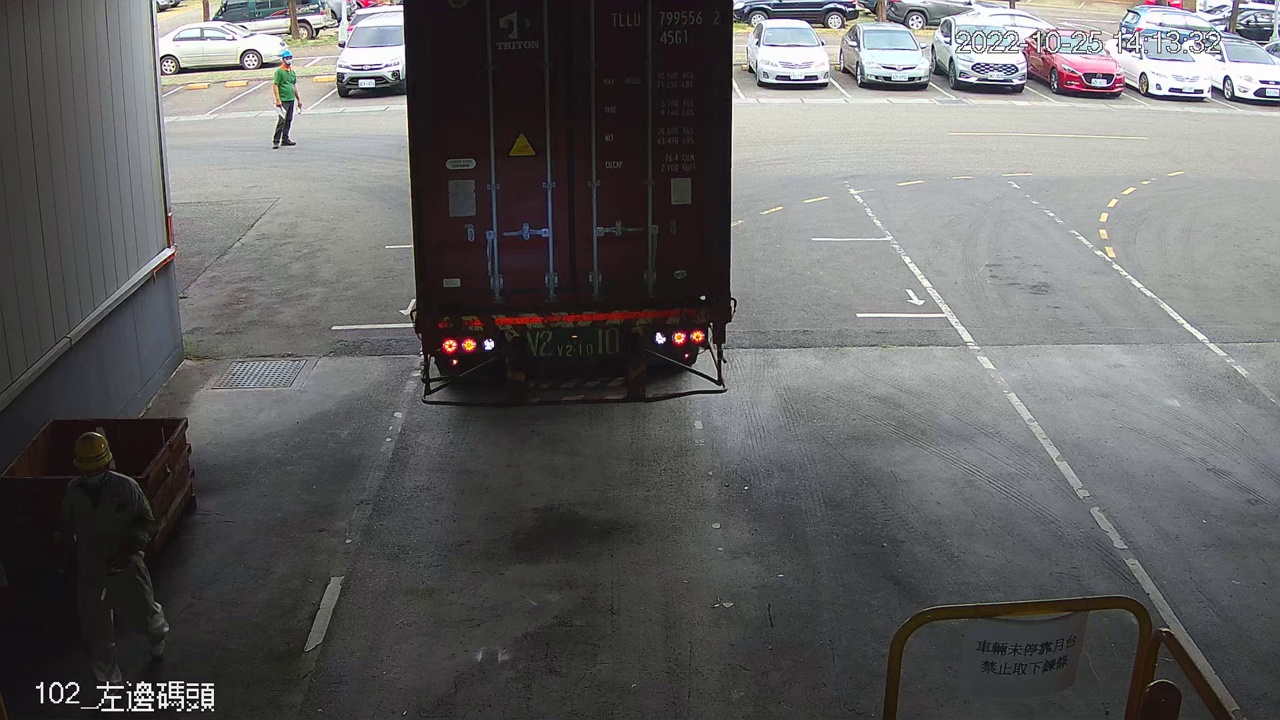container: (600, 5, 728, 51)
